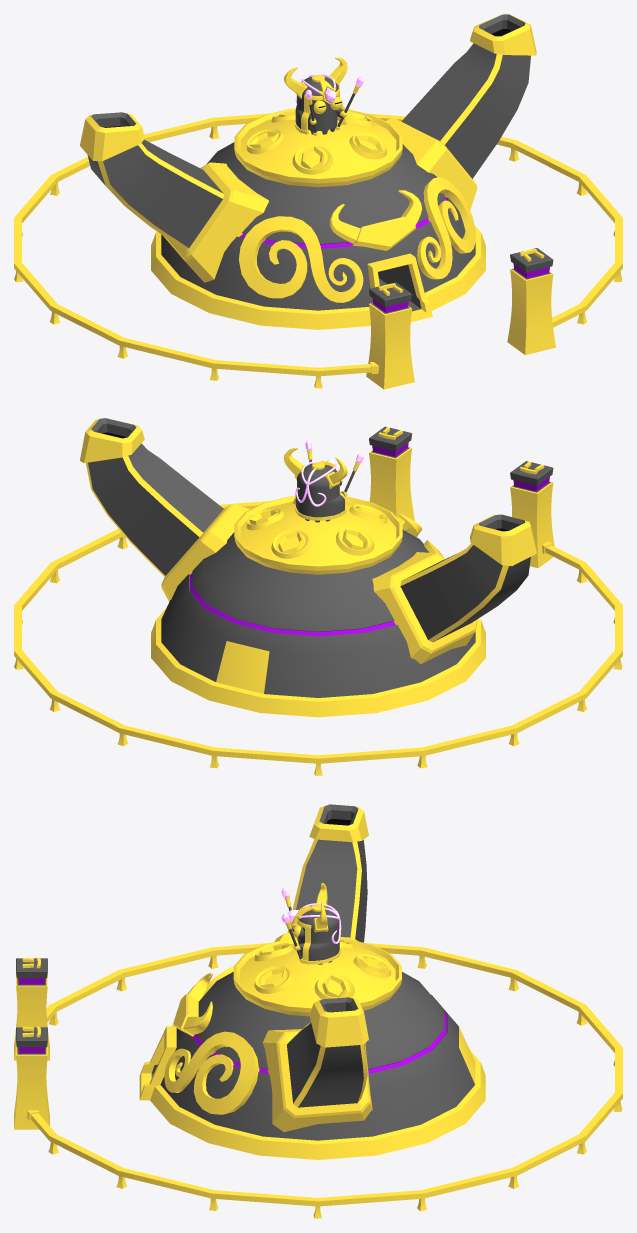
Rendered from mage_chamber_kek.fbx.
3 renders of one model, top to bottom at view 1: azimuth 30°, elevation 25°; view 2: azimuth 150°, elevation 25°; view 3: azimuth 270°, elevation 25°, orthographic.
Parts seen in each view (by area): view 1: mage_chamber_kek, hornexhausts, emblems, fence, posts_KEK, gotchi_aadept, deets, horns, body; view 2: mage_chamber_kek, hornexhausts, fence, posts_KEK, emblems, gotchi_aadept, horns; view 3: mage_chamber_kek, hornexhausts, fence, emblems, posts_KEK, gotchi_aadept.
Boxes of the visible parts, x1,y1,x2,y2 form: mage_chamber_kek: (151, 119, 485, 329); hornexhausts: (80, 14, 536, 282); emblems: (234, 108, 475, 302); fence: (14, 113, 622, 388); posts_KEK: (366, 248, 555, 389); gotchi_aadept: (294, 75, 346, 134); deets: (307, 84, 360, 135); horns: (284, 57, 347, 98); body: (308, 96, 337, 134); mage_chamber_kek: (151, 501, 485, 717); hornexhausts: (80, 418, 536, 663); fence: (14, 501, 622, 775); posts_KEK: (369, 426, 554, 567); emblems: (234, 496, 443, 570); gotchi_aadept: (294, 460, 346, 520); horns: (284, 448, 347, 488); mage_chamber_kek: (139, 943, 485, 1159); hornexhausts: (262, 804, 372, 1132); fence: (27, 943, 622, 1218); emblems: (164, 938, 401, 1114); posts_KEK: (14, 957, 49, 1129); gotchi_aadept: (293, 904, 340, 964).
Size of the model in its own units: 22.76 by 7.89 by 22.37.
